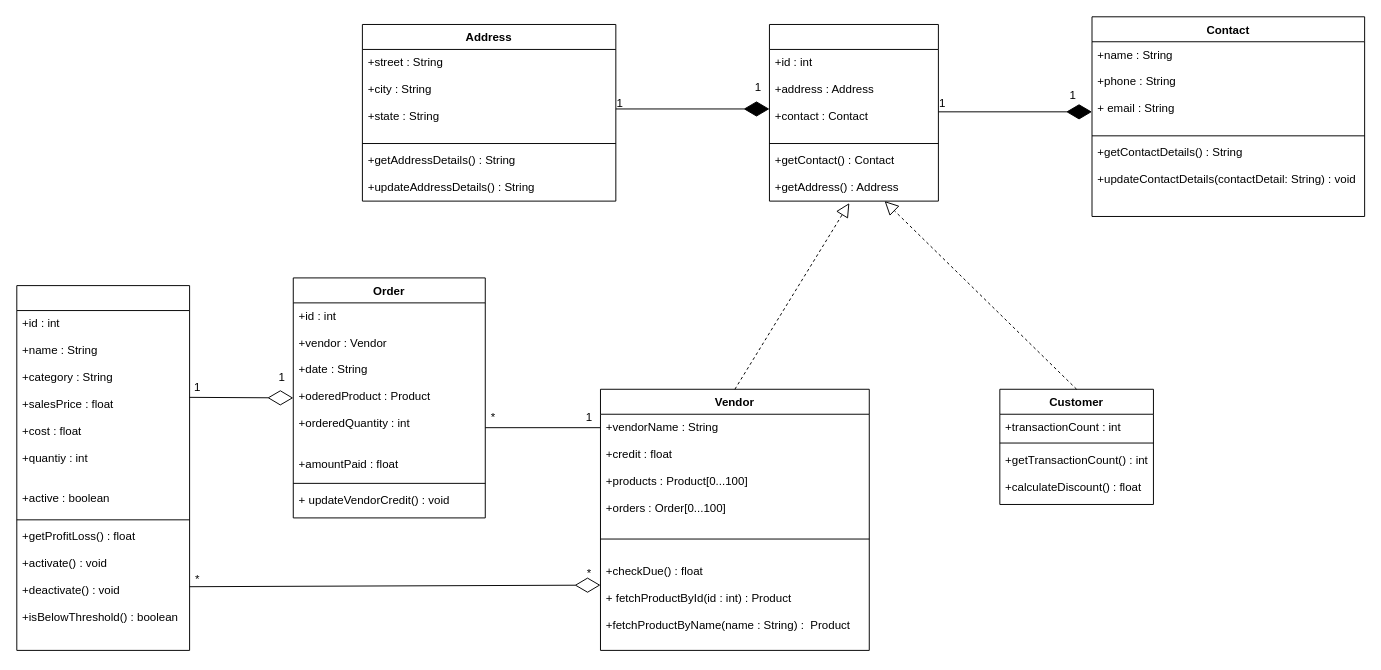
This 1381x670 diagram has some shape labels left out. The box of each missing label's shape, as (x1, y1, x2, y2) in pixels:
BusinessPartner: (768, 24, 938, 201)
Product: (16, 285, 190, 650)
